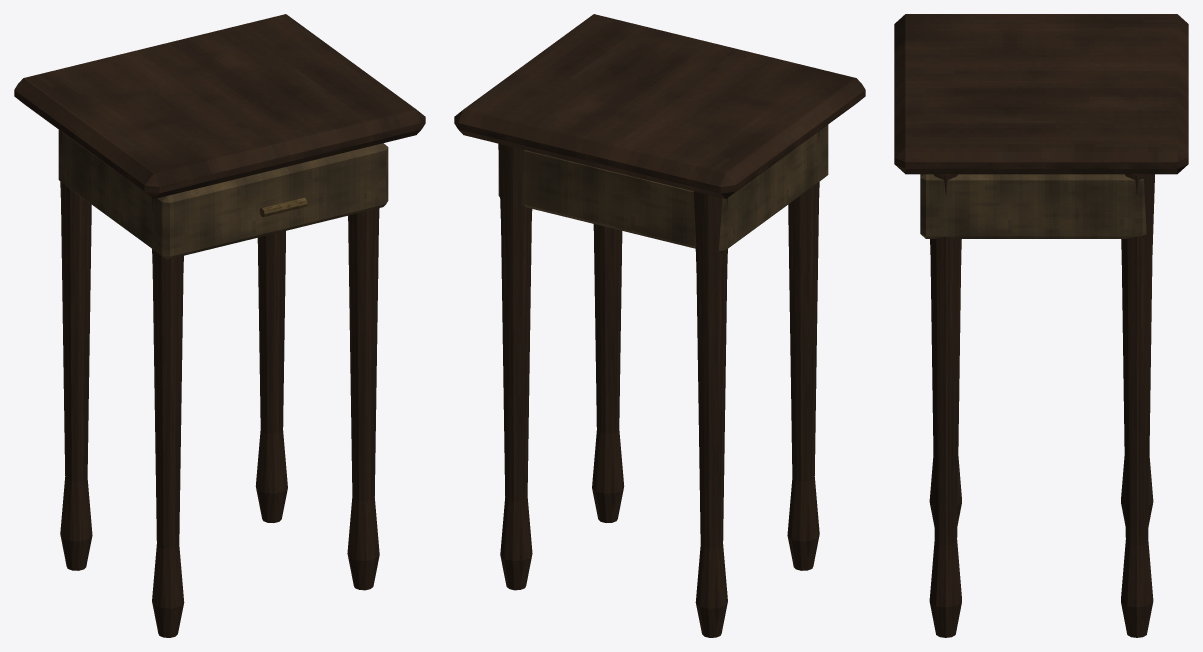
Rendered from level_event_side_table_worn.glb.
3 renders of one model, left to right at view 1: azimuth 30°, elevation 25°; view 2: azimuth 150°, elevation 25°; view 3: azimuth 270°, elevation 25°, orthographic. The views are drawn at different scales.
Visible parts, largest first — view 1: level_event_side_table_worn; view 2: level_event_side_table_worn; view 3: level_event_side_table_worn.
Part boxes in pixels (x1,y1,x2,y2): level_event_side_table_worn: [14, 14, 425, 637]; level_event_side_table_worn: [454, 14, 865, 637]; level_event_side_table_worn: [894, 14, 1188, 637].
Size of the model in its own units: 0.46 by 0.755 by 0.4.
3 materials, 3 textured.
